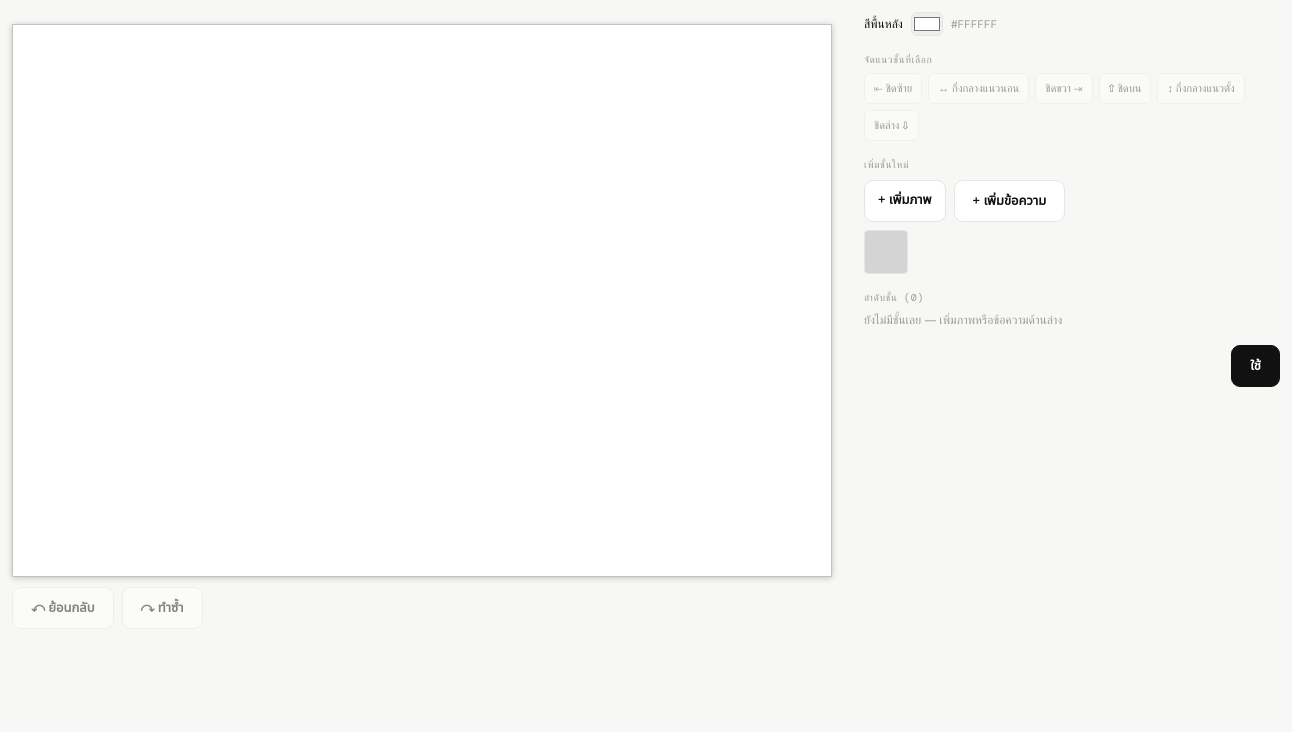
Test case: Compositor · เพิ่มชั้น › เพิ่มข้อความ — ปรากฏในลำดับชั้นทันทีและถูกเลือกอยู่
Click the button "+ เพิ่มข้อความ" at [1009, 201], box [954,180,1065,222]
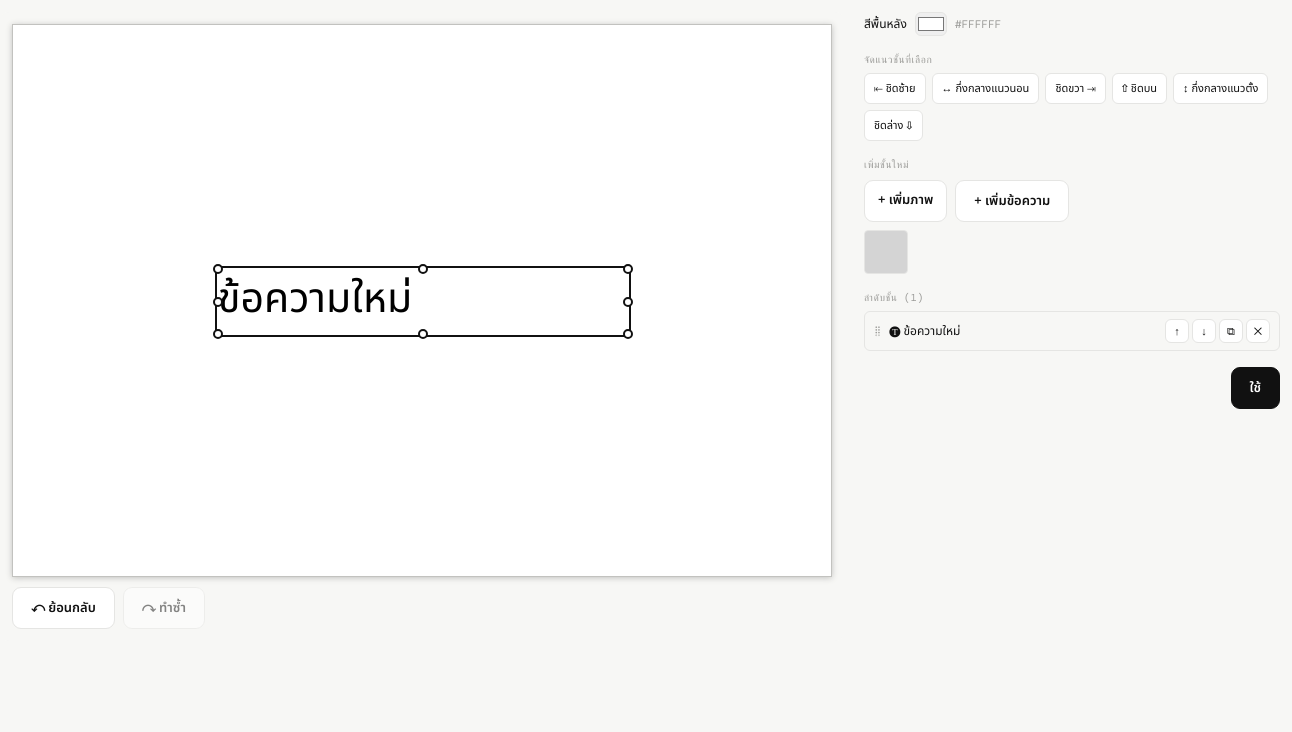
Result: the text "ข้อความใหม่" is shown at [218,269,412,330]
